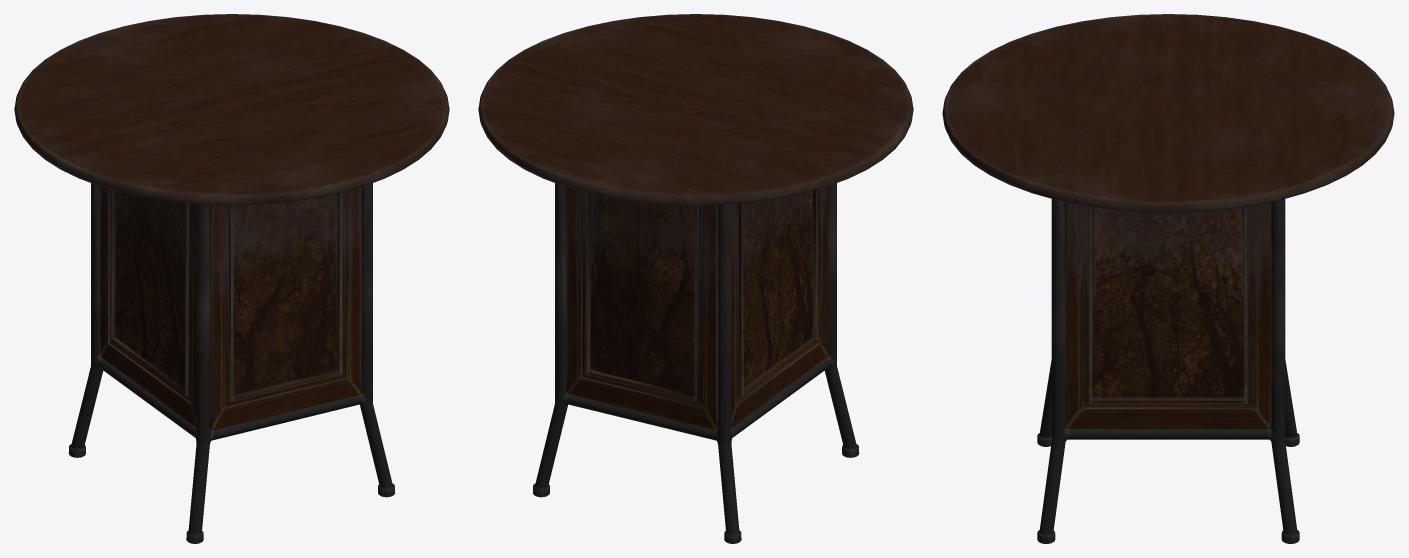
Rendered from round_wooden_table_02.glb.
The picture shows the model from 3 angles, left to right: view 1: azimuth 30°, elevation 25°; view 2: azimuth 150°, elevation 25°; view 3: azimuth 270°, elevation 25°; orthographic projection. The views are drawn at different scales.
Parts seen in each view (by area): view 1: round_wooden_table_02; view 2: round_wooden_table_02; view 3: round_wooden_table_02.
Part boxes in pixels (x1,y1,x2,y2): round_wooden_table_02: [14, 14, 449, 543]; round_wooden_table_02: [478, 14, 913, 543]; round_wooden_table_02: [942, 14, 1394, 543].
Bounding box in the file's own units: 0.7962 × 0.746 × 0.7962.
Materials: 1 (1 with a texture image).
